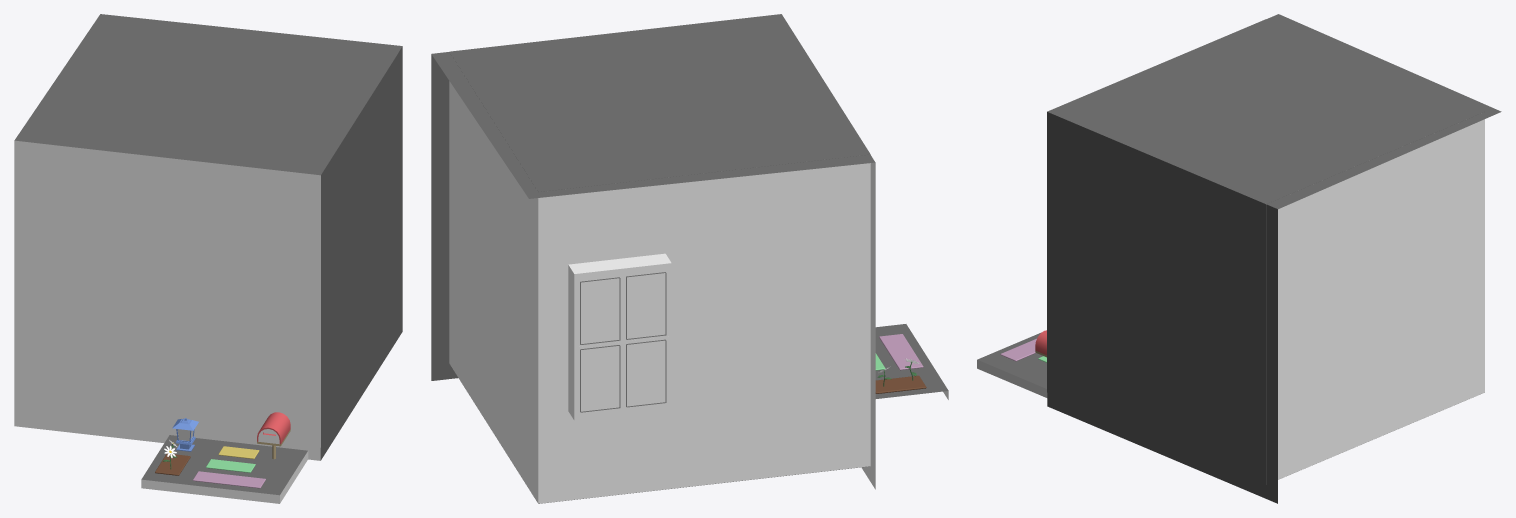
File: room-portfolio.glb
3 views of the same model, side by side, from view 1: azimuth 30°, elevation 25°; view 2: azimuth 150°, elevation 25°; view 3: azimuth 270°, elevation 25° (orthographic). The views are drawn at different scales.
Visible parts, largest first — view 1: animation_cube, body, minifloor, mailbox, floor_third, lamp, dirt, floor_second; view 2: body, animation_cube, body_005, body_002, body_003, body_004, minifloor, floor_third, dirt; view 3: animation_cube, body, minifloor.
Boxes of the visible parts, x1,y1,x2,y2 form: animation_cube: [30, 20, 398, 447]; body: [14, 14, 402, 460]; minifloor: [141, 435, 308, 503]; mailbox: [257, 412, 290, 459]; floor_third: [193, 471, 265, 488]; lamp: [172, 418, 198, 451]; dirt: [155, 453, 190, 475]; floor_second: [206, 459, 255, 472]; body: [431, 52, 875, 503]; animation_cube: [449, 14, 870, 503]; body_005: [568, 259, 622, 347]; body_002: [617, 253, 671, 341]; body_003: [568, 338, 622, 420]; body_004: [623, 336, 671, 415]; minifloor: [875, 324, 948, 399]; floor_third: [879, 334, 923, 370]; dirt: [875, 375, 926, 393]; animation_cube: [1047, 19, 1484, 484]; body: [1047, 14, 1501, 503]; minifloor: [977, 332, 1047, 397].
Bounding box in the file's own units: 15.04 × 10.58 × 17.07.
